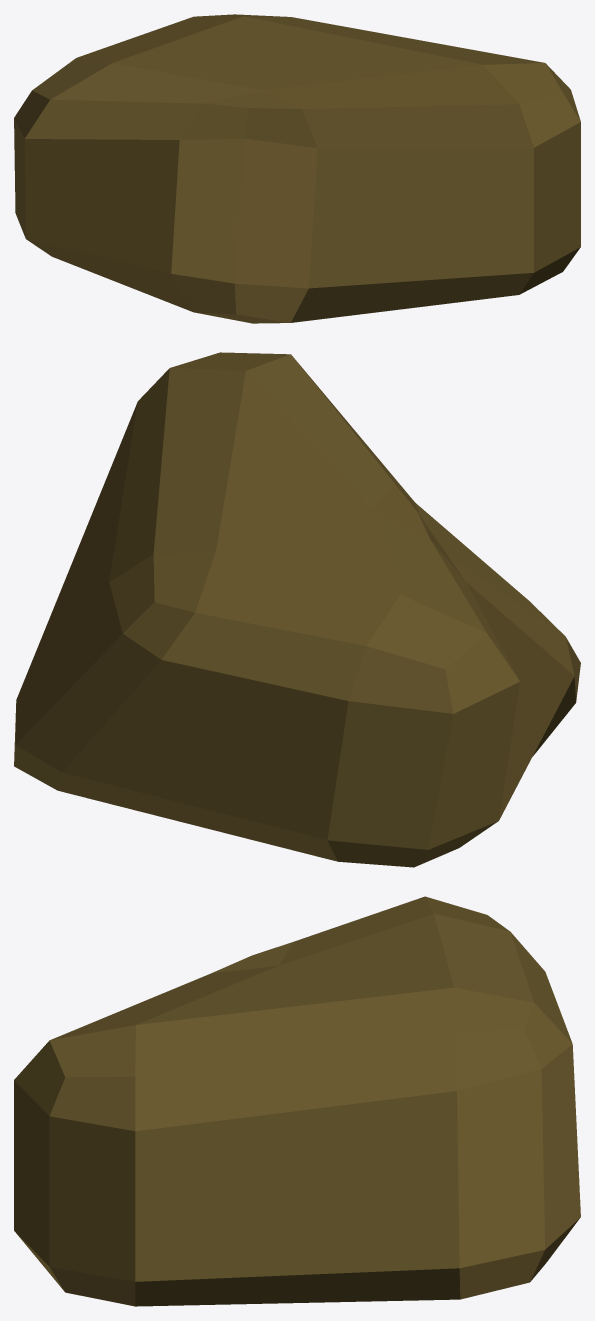
File: Rock.fbx
3 renders of one model, top to bottom at view 1: azimuth 30°, elevation 25°; view 2: azimuth 150°, elevation 25°; view 3: azimuth 270°, elevation 25°, orthographic. The views are drawn at different scales.
Visible parts, largest first — view 1: Cube; view 2: Cube; view 3: Cube.
Boxes of the visible parts, x1,y1,x2,y2 form: Cube: [14, 14, 580, 323]; Cube: [14, 352, 580, 867]; Cube: [14, 896, 580, 1306].
Bounding box in the file's own units: 177 × 88.58 × 170.
